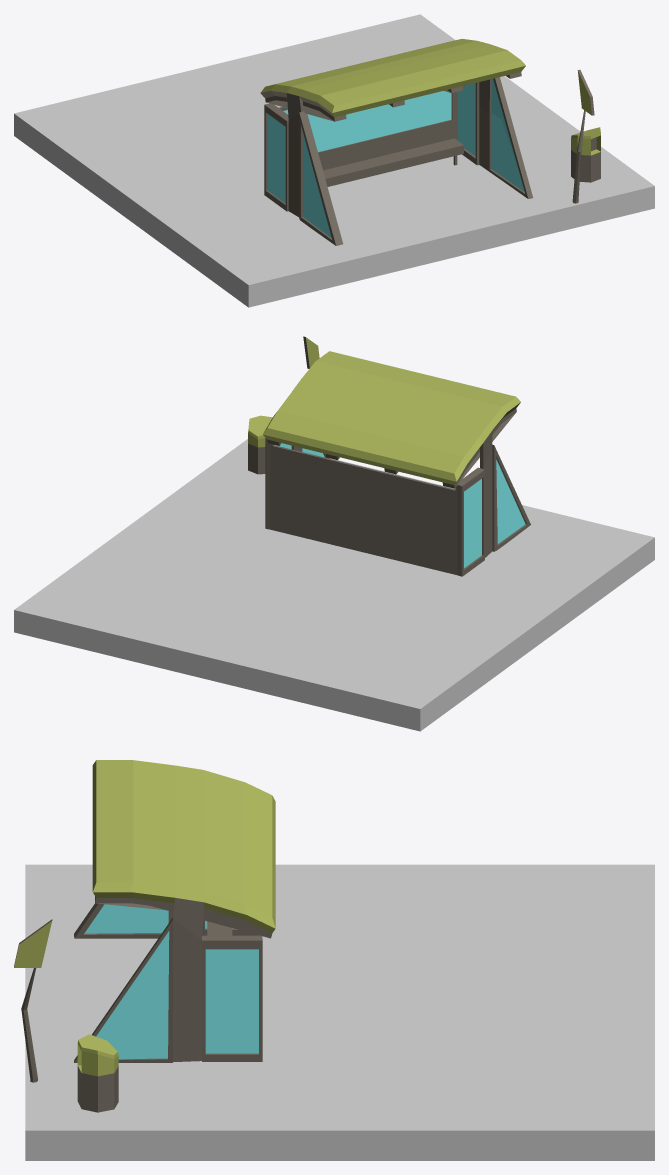
The model's file is Bus_Stop.fbx.
The picture shows the model from 3 angles, top to bottom: view 1: azimuth 30°, elevation 25°; view 2: azimuth 150°, elevation 25°; view 3: azimuth 270°, elevation 25°; orthographic projection. The views are drawn at different scales.
Visible parts, largest first — view 1: Cube; view 2: Cube; view 3: Cube.
Boxes of the visible parts, x1,y1,x2,y2 form: Cube: (14,14,654,307); Cube: (14,336,654,731); Cube: (14,760,654,1160).
Bounding box in the file's own units: 200 × 72.96 × 204.
